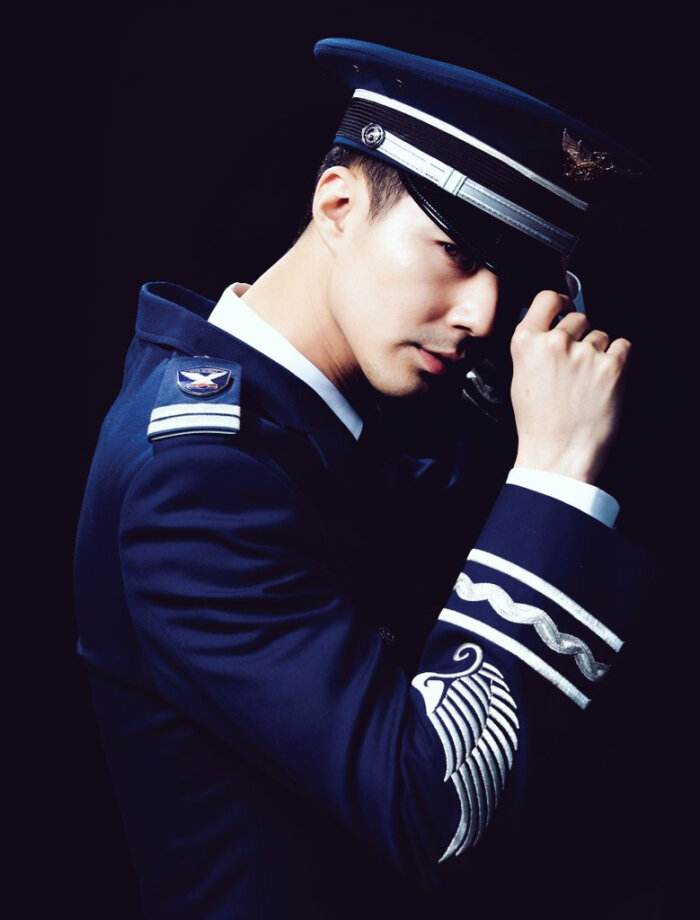person: (198, 62, 560, 849)
